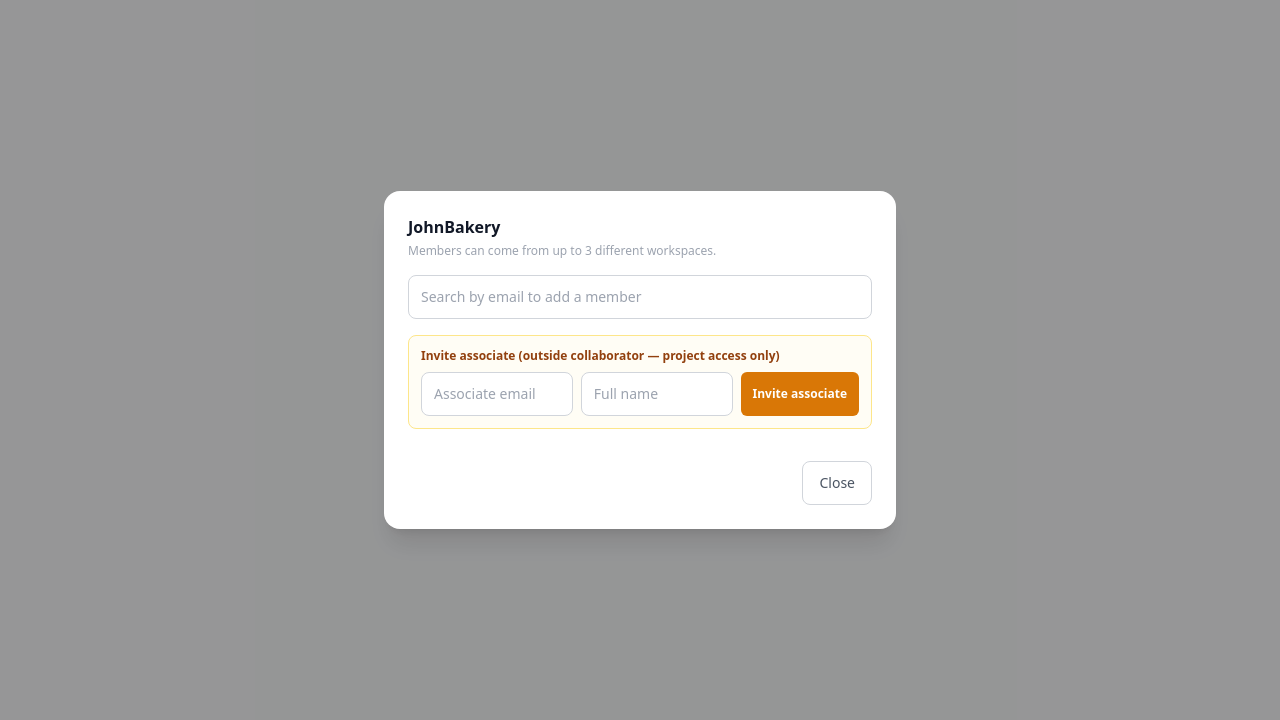
it: ProjectDetailPanel — 3-workspace cap › adds a member successfully when the cap is not yet reached
Type "new@x.com" into the field with placeholder "Search by email to add a member".
click(640, 297); type("new@x.com")  # box [408,275,872,319]
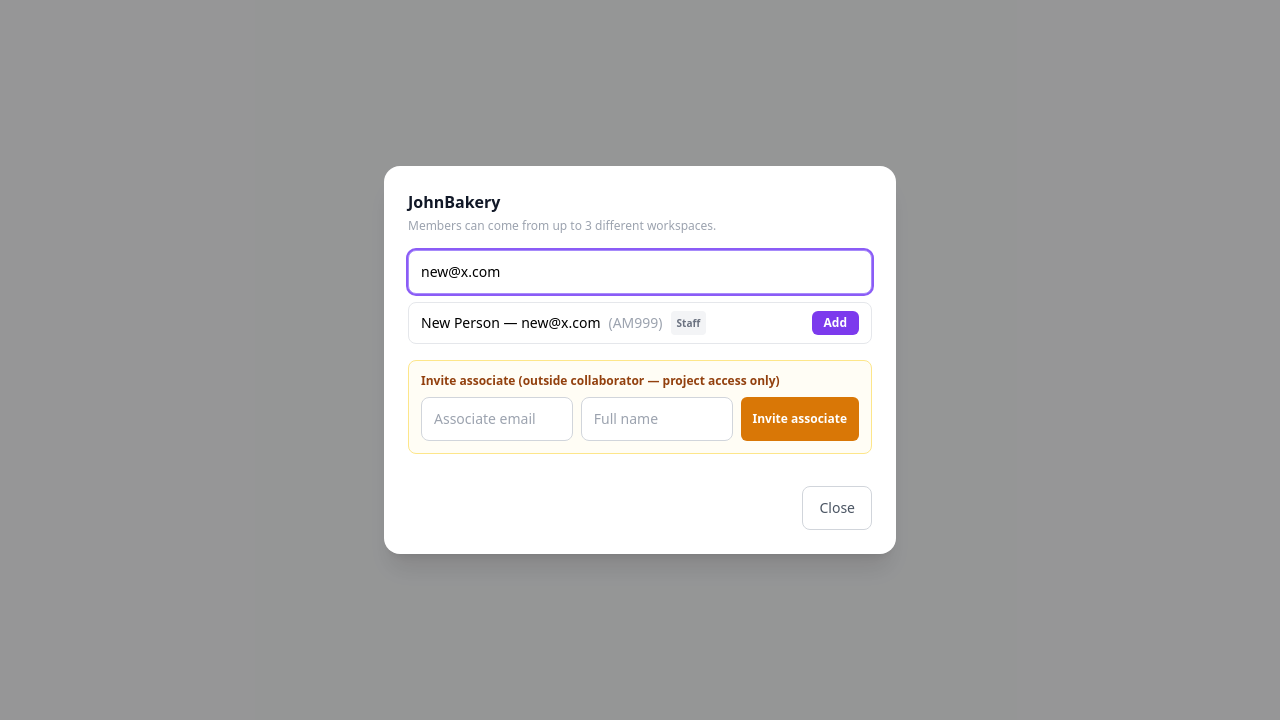
Click the button "Add".
click(835, 323)  # box [812,311,859,335]
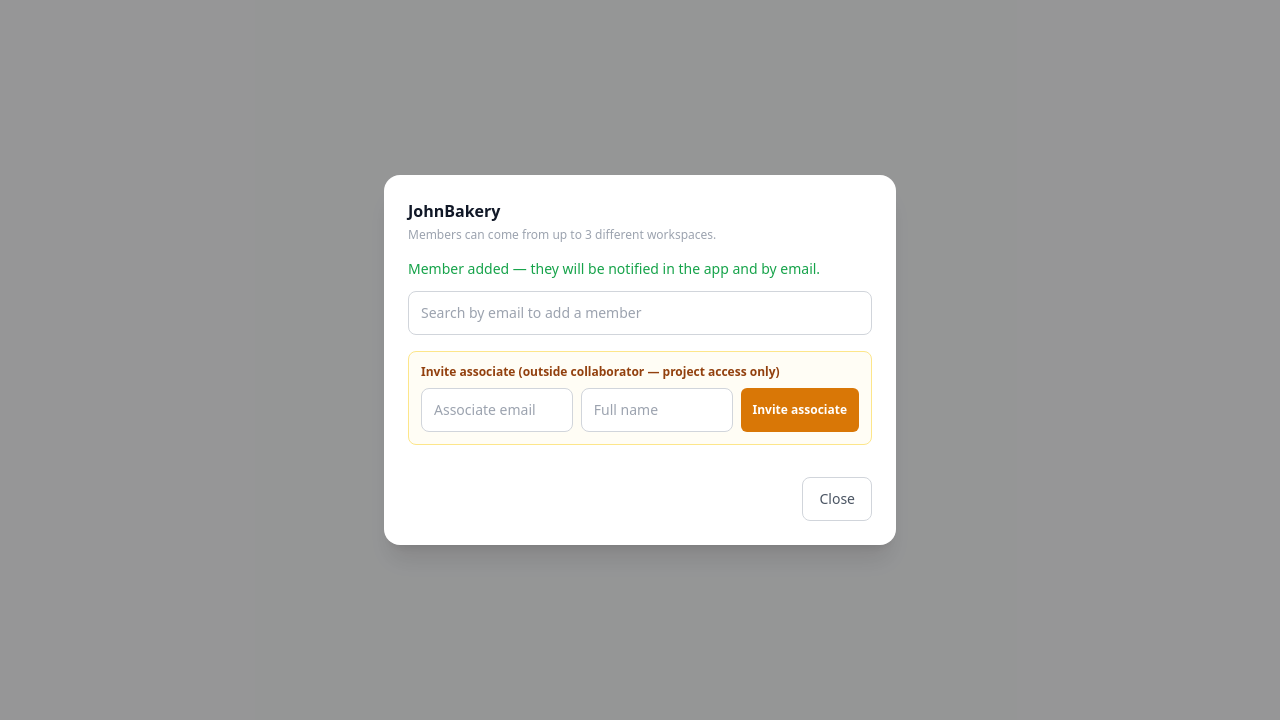
Result: the text "added" is shown at [408,259,820,278]
